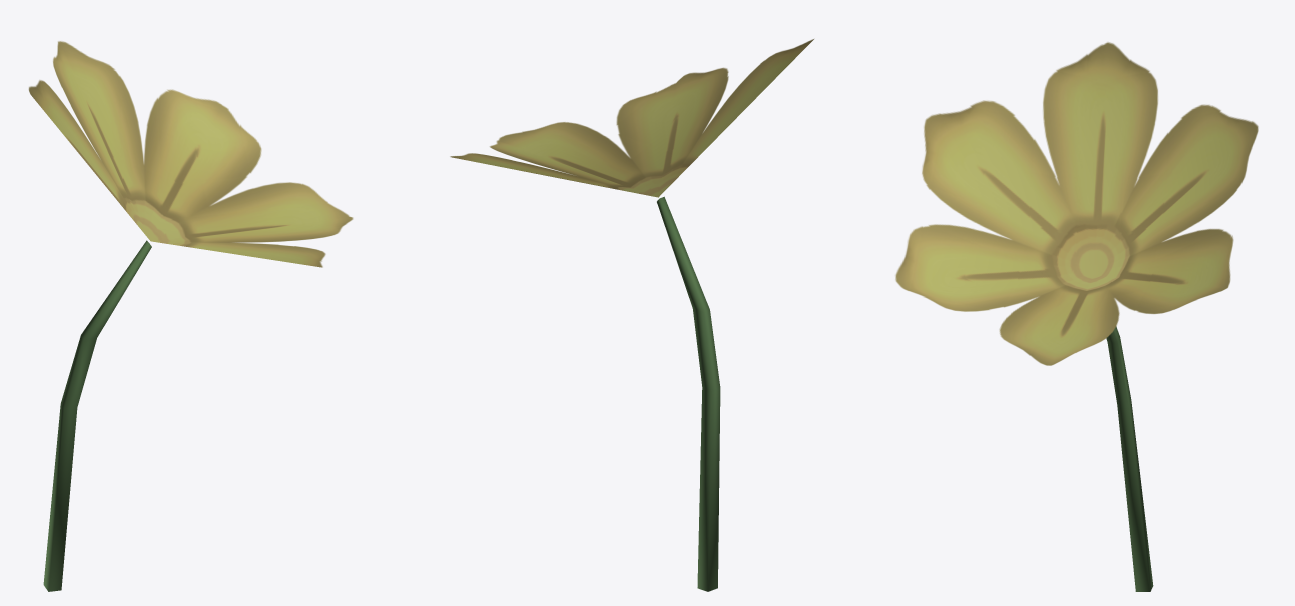
Rendered from Flower_2.glb.
3 views of the same model, side by side, from view 1: azimuth 30°, elevation 25°; view 2: azimuth 150°, elevation 25°; view 3: azimuth 270°, elevation 25° (orthographic). The views are drawn at different scales.
Visible parts, largest first — view 1: Flower_2; view 2: Flower_2; view 3: Flower_2.
Part boxes in pixels (box(x1,y1,x2,y2)): Flower_2: box(28, 41, 353, 591); Flower_2: box(450, 39, 813, 591); Flower_2: box(895, 42, 1258, 591).
Bounding box in the file's own units: 0.239 × 0.3613 × 0.2473.
Materials: 1 (1 with a texture image).
